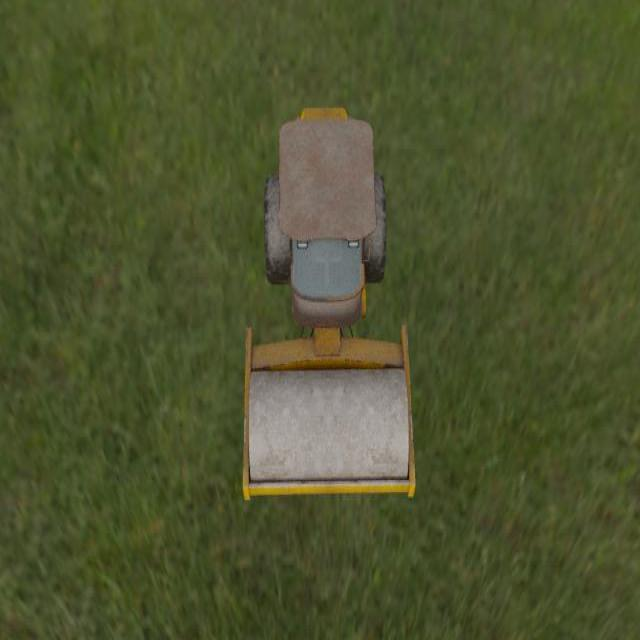Roller: (242, 107, 415, 500)
